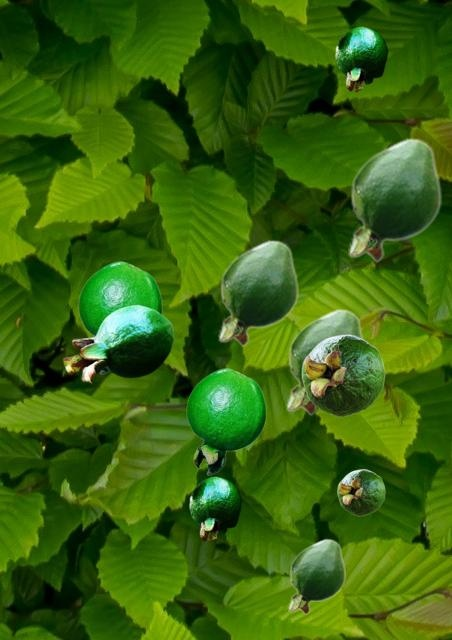guava: (348, 137, 440, 262), (78, 261, 161, 373), (62, 304, 173, 383), (286, 308, 365, 415), (218, 239, 297, 346), (186, 368, 265, 474), (301, 334, 384, 416), (288, 538, 344, 614), (335, 26, 387, 91), (189, 476, 241, 541), (337, 469, 384, 515)
